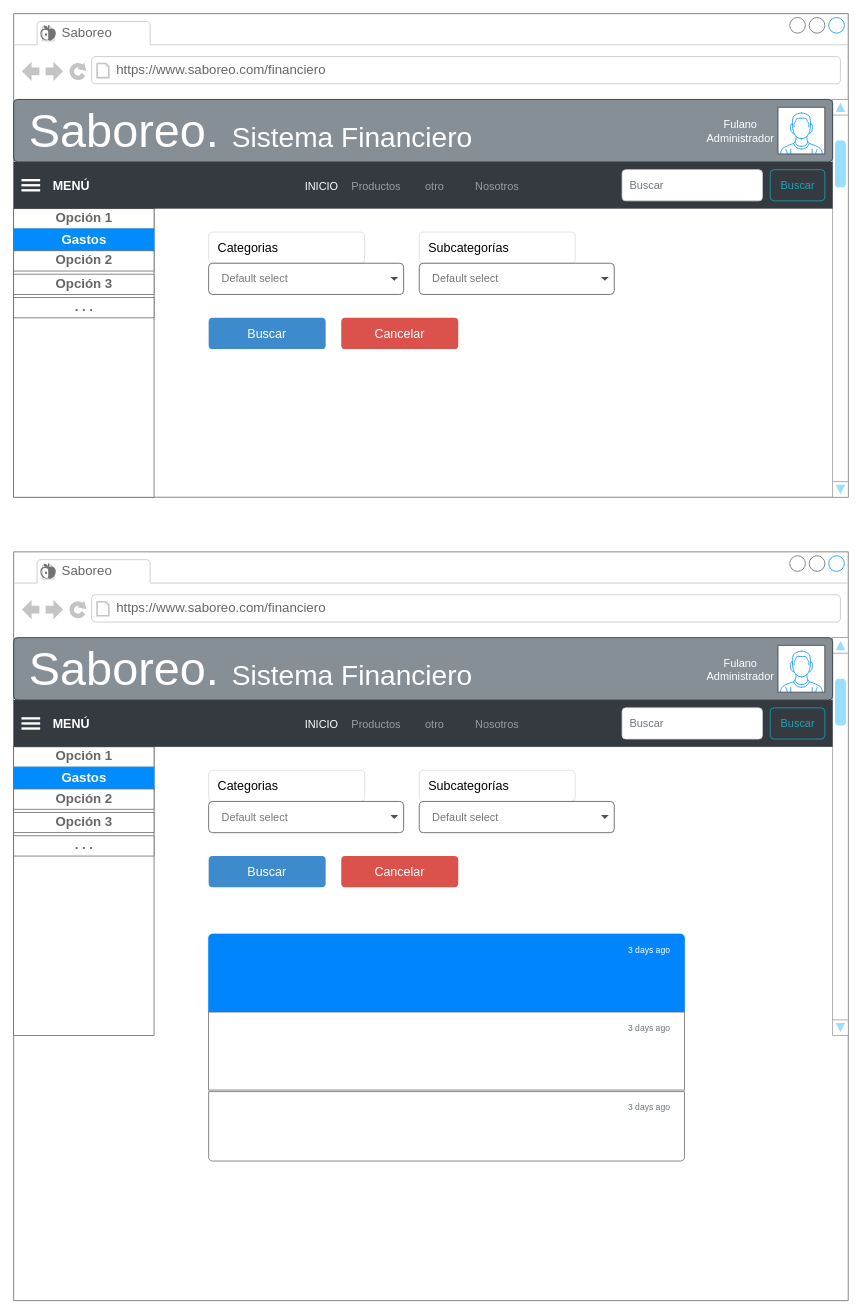
Some shapes in this 862 by 1314 pixel diagram are drawn without their labels. The centre of each missing label's shape, as x and y in pixels:
Categoria 1 Subcategoría Descripción: pixel 446 972
Categoria 2 Subcategoría Descripción: pixel 446 1050
Categoria 3 Subcategoría Descripción: pixel 446 1126
